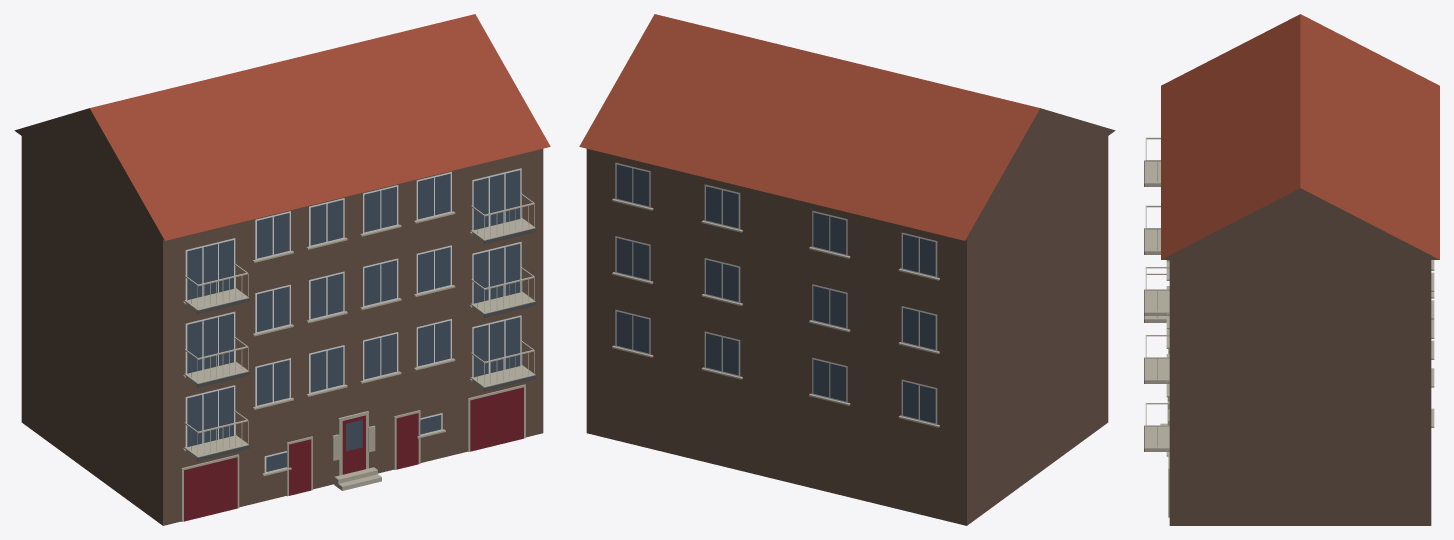
Rendered from nw-portiek-hof-garage-4st__brown-red-4w__4__gable__long__solid.glb.
The picture shows the model from 3 angles, left to right: view 1: azimuth 30°, elevation 25°; view 2: azimuth 150°, elevation 25°; view 3: azimuth 270°, elevation 25°; orthographic projection. The views are drawn at different scales.
Visible parts, largest first — view 1: nw-portiek-hof-garage-4st__brown-red-4w__4__gable__long__sol; view 2: nw-portiek-hof-garage-4st__brown-red-4w__4__gable__long__sol; view 3: nw-portiek-hof-garage-4st__brown-red-4w__4__gable__long__sol.
Boxes of the visible parts, x1=… form: nw-portiek-hof-garage-4st__brown-red-4w__4__gable__long__sol: x1=14, y1=14, x2=550, y2=525; nw-portiek-hof-garage-4st__brown-red-4w__4__gable__long__sol: x1=579, y1=14, x2=1115, y2=525; nw-portiek-hof-garage-4st__brown-red-4w__4__gable__long__sol: x1=1144, y1=14, x2=1439, y2=525.
Bounding box in the file's own units: 16.51 × 15 × 11.86.
